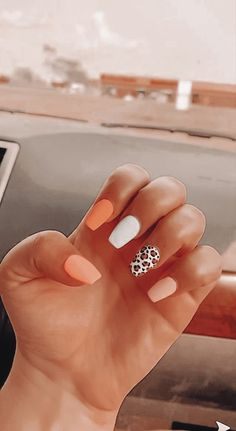nails: (58, 249, 110, 295), (76, 193, 119, 239), (125, 242, 164, 283), (106, 213, 144, 251), (142, 272, 182, 307)
